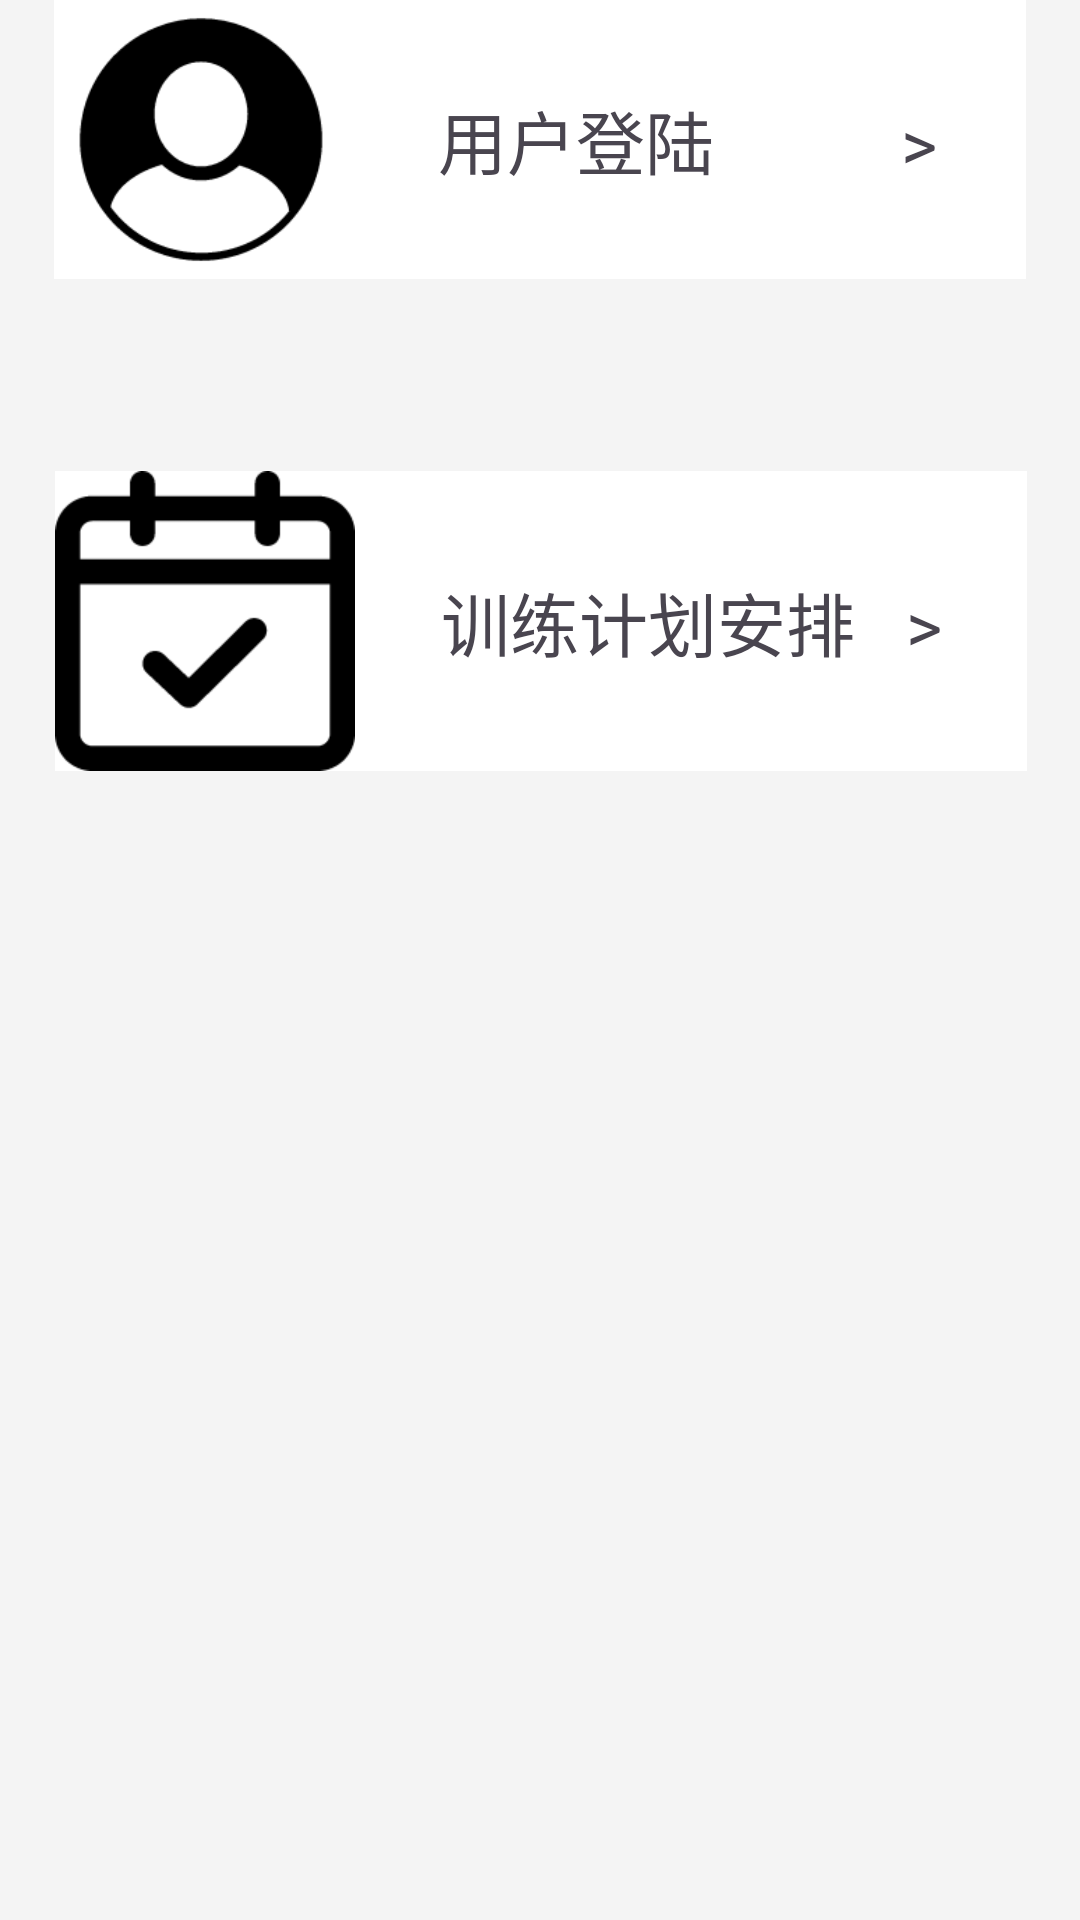

Where to tap for icons on this 1080×1920 app screen, as point (x, y):
rili: point (205, 621)
touxiang: point (201, 139)
